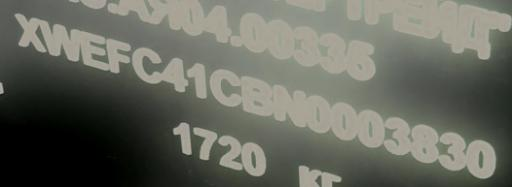letter: (40, 16, 80, 67), (270, 74, 306, 129), (208, 62, 240, 113), (355, 96, 383, 152), (12, 10, 44, 59), (465, 131, 497, 179), (128, 37, 160, 85), (78, 25, 106, 79), (240, 72, 272, 119), (384, 112, 412, 163), (410, 122, 440, 166), (330, 95, 356, 143), (104, 35, 132, 79), (160, 48, 186, 95), (438, 128, 464, 172), (306, 90, 330, 135), (186, 55, 208, 100)
